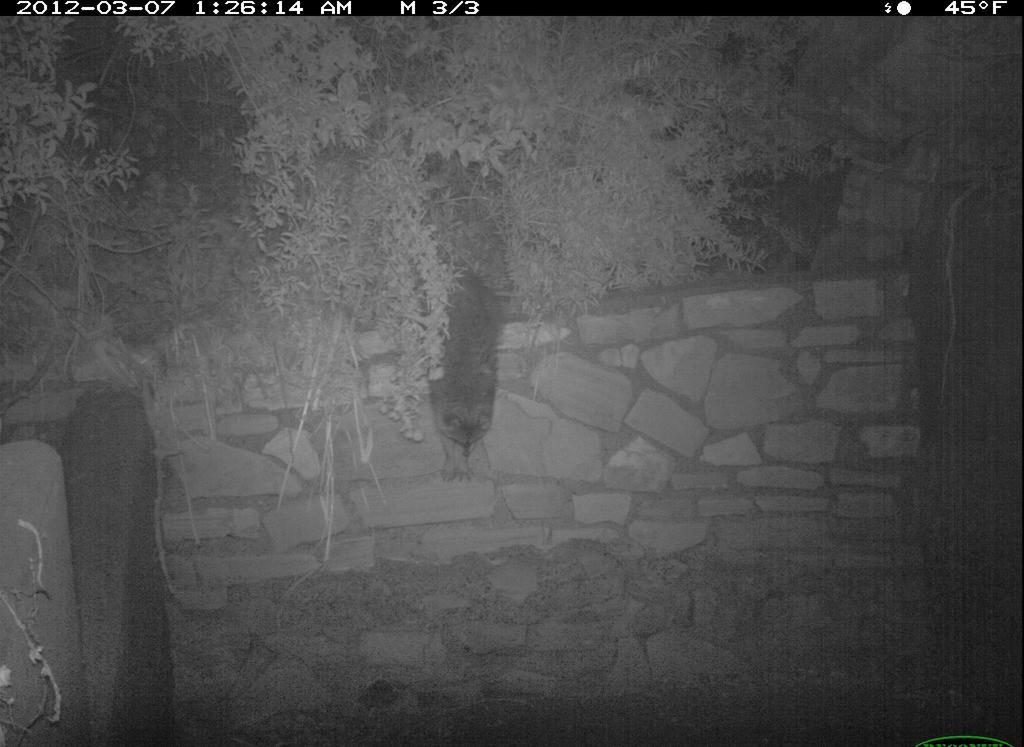raccoon: (404, 222, 523, 464)
